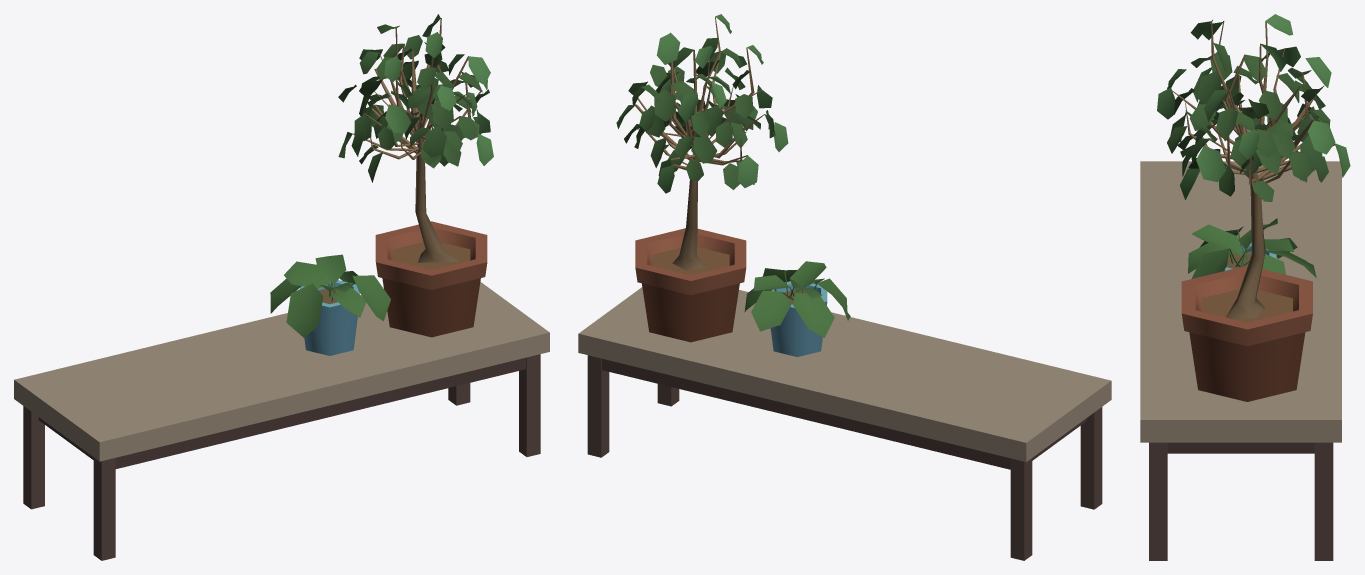
The model's file is SM_GameArea_Table_02.fbx.
3 views of the same model, side by side, from view 1: azimuth 30°, elevation 25°; view 2: azimuth 150°, elevation 25°; view 3: azimuth 270°, elevation 25° (orthographic). The views are drawn at different scales.
Parts seen in each view (by area): view 1: SM_GameArea_Table_02; view 2: SM_GameArea_Table_02; view 3: SM_GameArea_Table_02.
Part boxes in pixels (box(x1,y1,x2,y2)): SM_GameArea_Table_02: box(14, 14, 549, 560); SM_GameArea_Table_02: box(578, 14, 1111, 560); SM_GameArea_Table_02: box(1140, 14, 1350, 560).
Size of the model in its own units: 6.16 by 5.51 by 2.12.
Materials: 1 (1 with a texture image).
